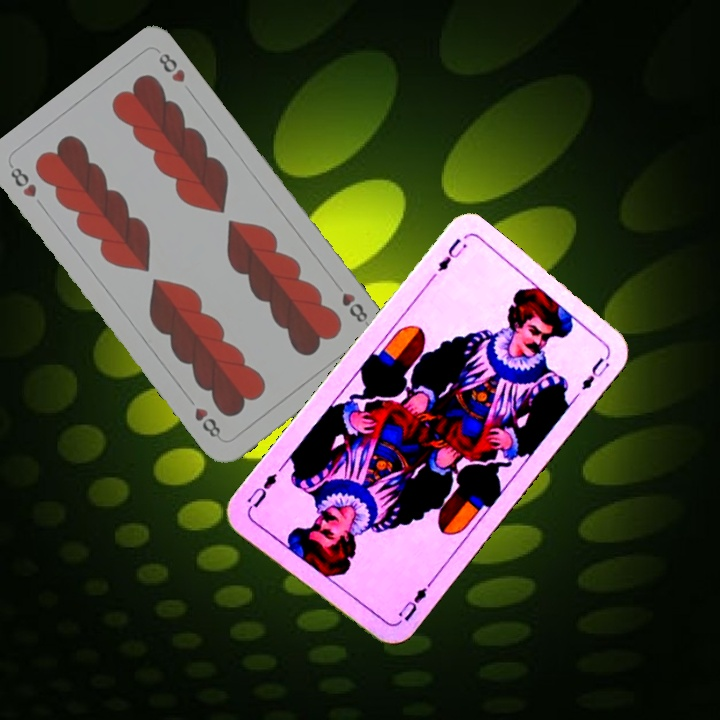EU: (391, 578, 434, 628), (434, 234, 470, 275)
H8: (331, 278, 371, 325), (6, 161, 39, 201)
